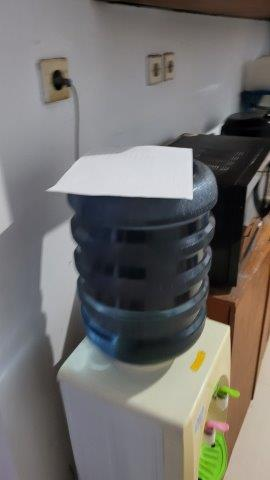kertas: (45, 145, 197, 203)
